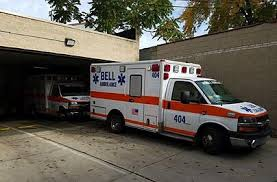special: (89, 59, 270, 153), (27, 72, 90, 120)
